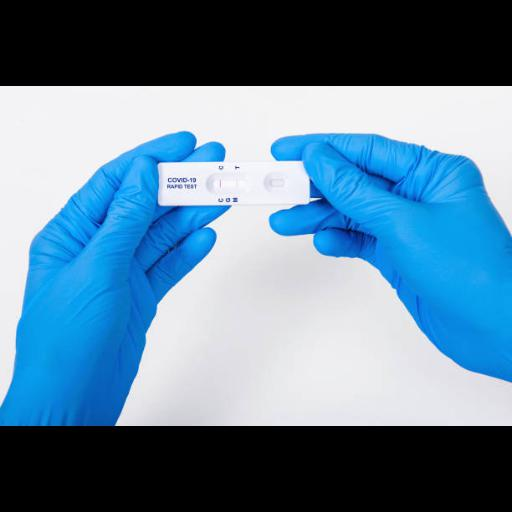Pos: (158, 161, 308, 203)
